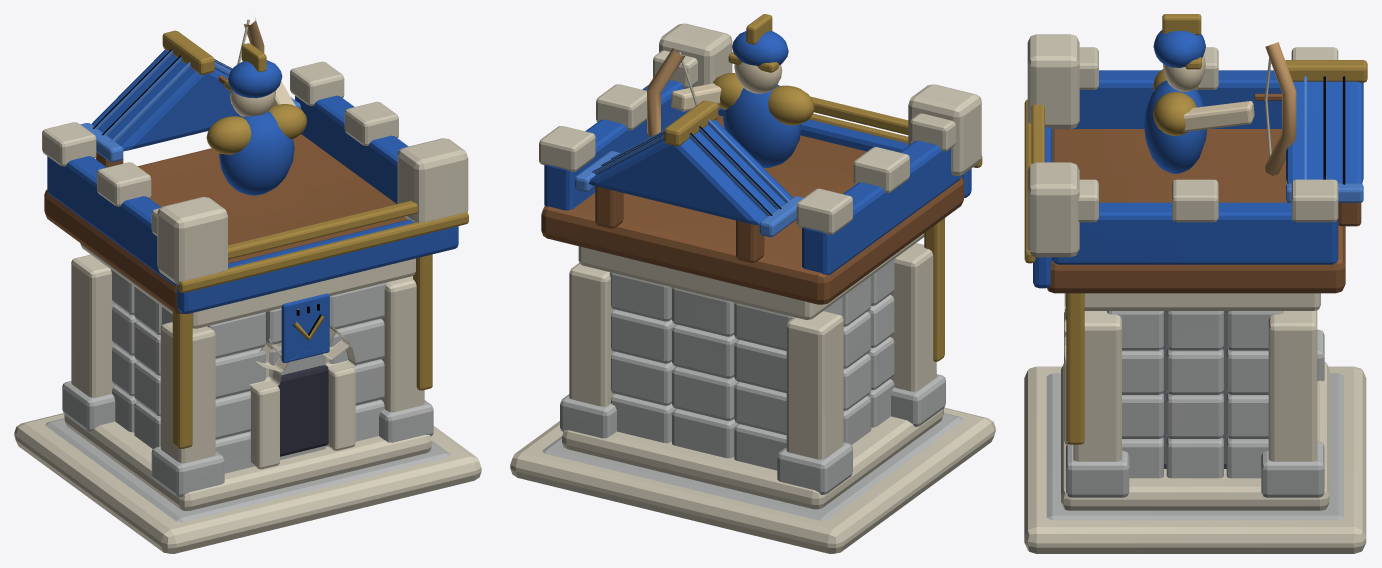
File: arrow_tower_medium.glb
The picture shows the model from 3 angles, left to right: view 1: azimuth 30°, elevation 25°; view 2: azimuth 150°, elevation 25°; view 3: azimuth 270°, elevation 25°; orthographic projection. The views are drawn at different scales.
Parts seen in each view (by area): view 1: arrow_tower_medium_surface; view 2: arrow_tower_medium_surface; view 3: arrow_tower_medium_surface.
Part boxes in pixels (x1,y1,x2,y2): arrow_tower_medium_surface: (14, 18, 481, 553); arrow_tower_medium_surface: (510, 14, 995, 553); arrow_tower_medium_surface: (1024, 14, 1367, 553).
Bounding box in the file's own units: 1.65 × 2.07 × 1.41.
1 material, 1 textured.
